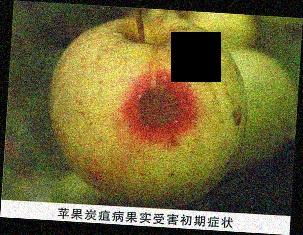rotten apple: (48, 17, 250, 207)
